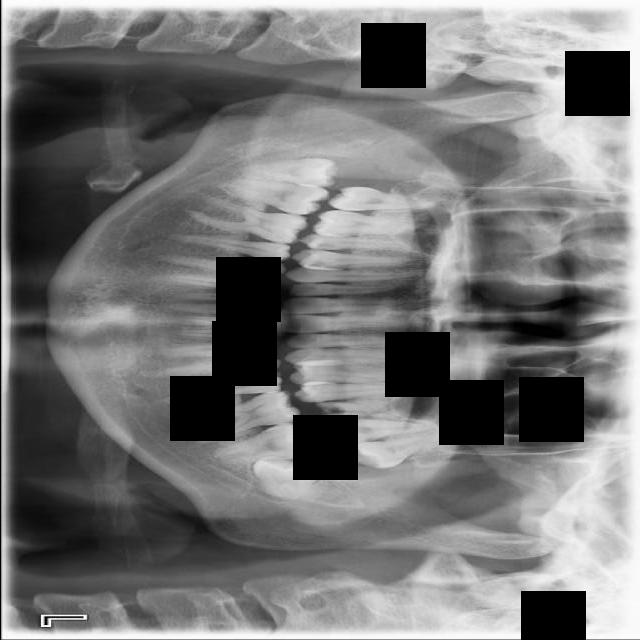52: (316, 399, 345, 420)
73: (60, 524, 69, 528)
BioHorizons Implant: (313, 416, 425, 451)
BioLife Implant: (348, 434, 442, 472)
Blue Sky Bio Implant: (209, 419, 319, 467)
Caries: (327, 185, 437, 212)
Implant: (223, 175, 329, 218)
Keystone Dental Implant: (247, 156, 338, 191)
